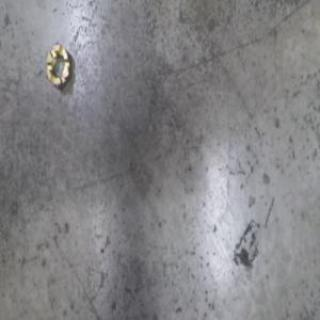Nuttrack_idkeyframe: (44, 40, 73, 93)
